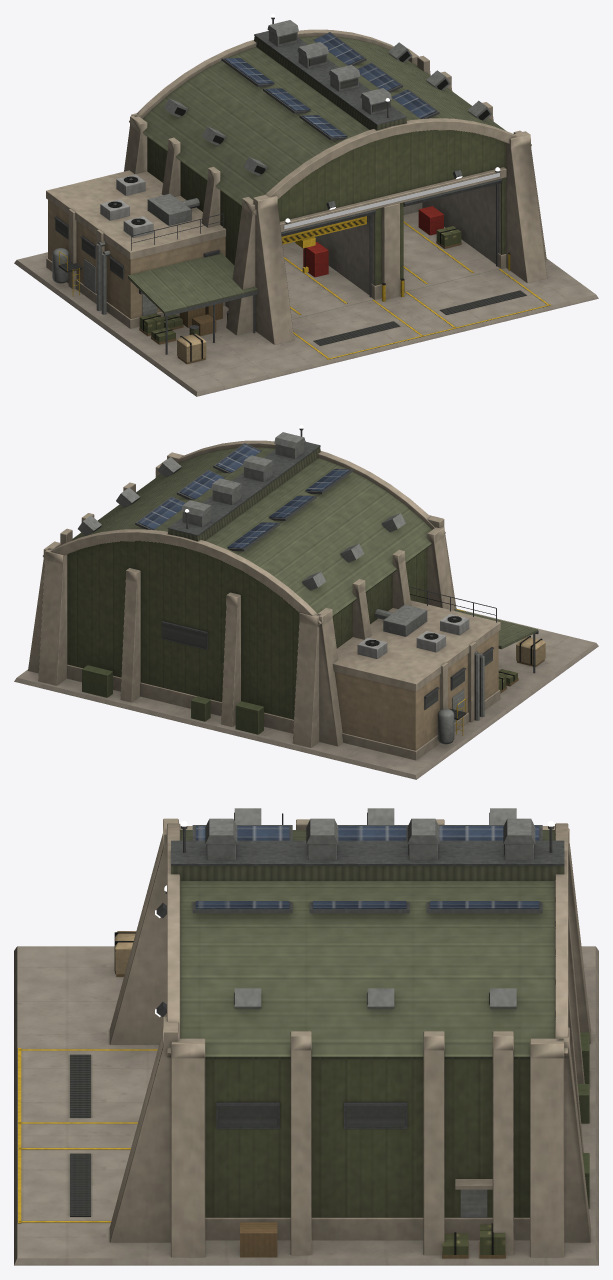
Rendered from war_factory.glb.
3 renders of one model, top to bottom at view 1: azimuth 30°, elevation 25°; view 2: azimuth 150°, elevation 25°; view 3: azimuth 270°, elevation 25°, orthographic. The views are drawn at different scales.
Parts seen in each view (by area): view 1: Building, Props; view 2: Building, Props; view 3: Building, Props.
Boxes of the visible parts, x1,y1,x2,y2 form: Building: (14,17,598,396); Props: (52,206,510,363); Building: (14,428,598,779); Props: (82,636,545,744); Building: (14,808,598,1265); Props: (114,931,589,1258).
Size of the model in its own units: 28 by 13.32 by 22.
9 materials, 1 textured.
